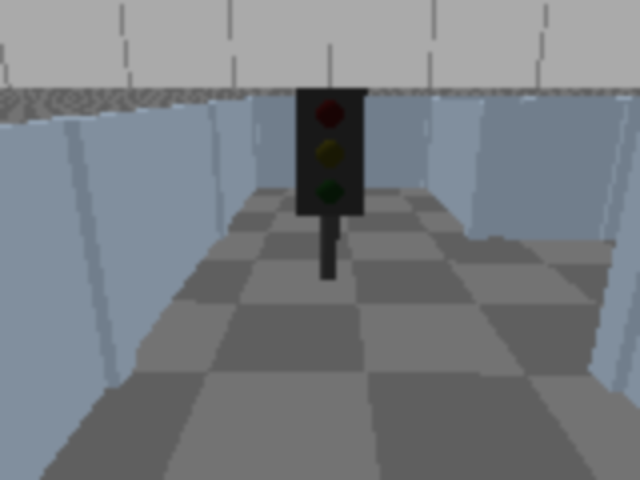traffic_light: (295, 76, 367, 289)
